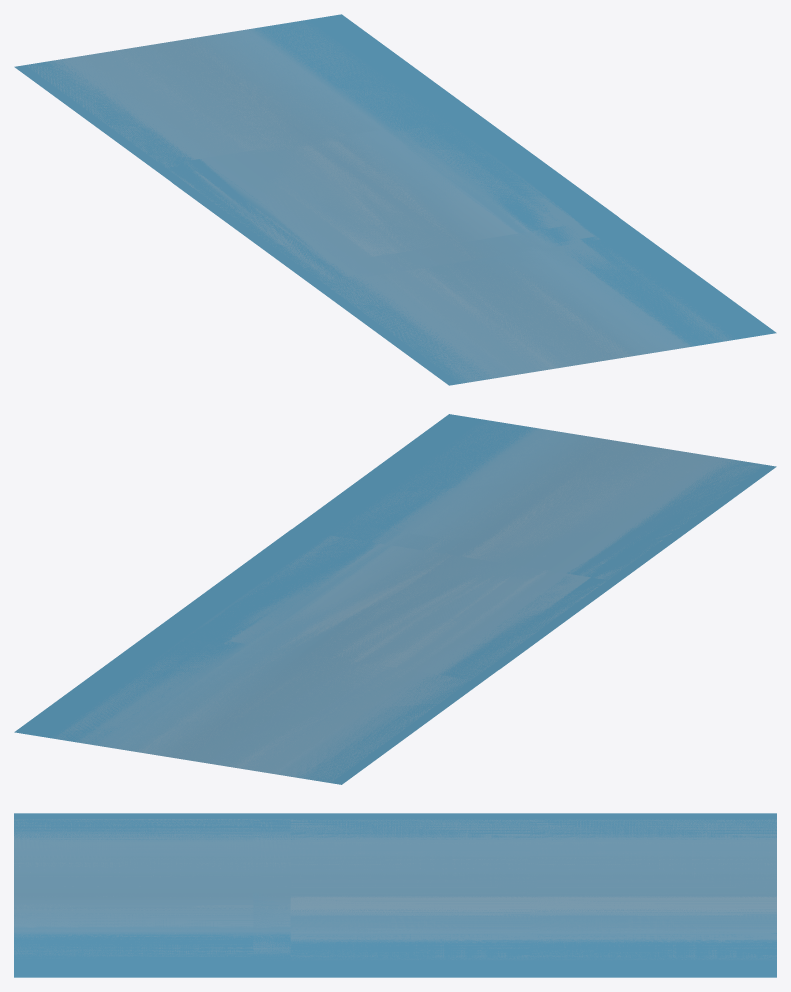
Rendered from Water.fbx.
3 views of the same model, one above another, from view 1: azimuth 30°, elevation 25°; view 2: azimuth 150°, elevation 25°; view 3: azimuth 270°, elevation 25° (orthographic). The views are drawn at different scales.
Parts seen in each view (by area): view 1: Water; view 2: Water; view 3: Water.
Boxes of the visible parts, x1,y1,x2,y2 form: Water: (14, 14, 776, 385); Water: (14, 414, 776, 784); Water: (14, 813, 776, 977).
Size of the model in its own units: 25.25 by 2.04 by 58.08.
